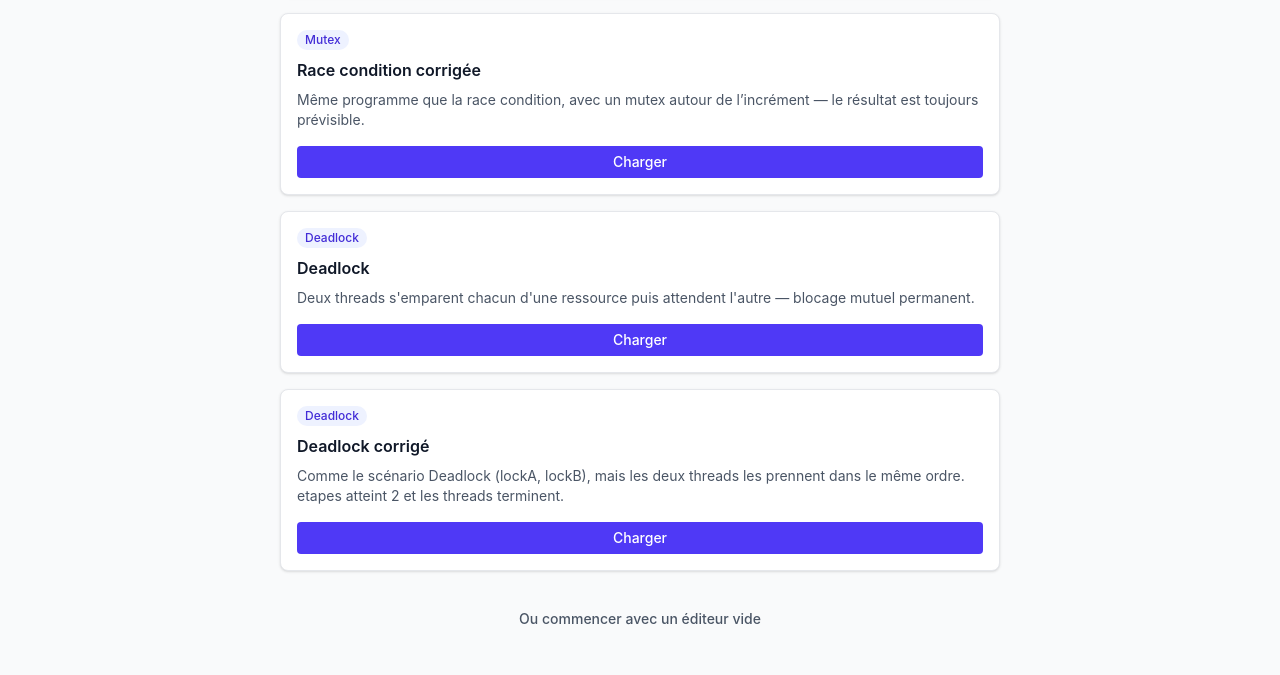
Test case: App editor › renders the layout with three panels after entering the editor
(page scrolled)
Click the button "Ou commencer avec un éditeur vide": (640, 619) x1=507 y1=603 x2=773 y2=635
(page scrolled)
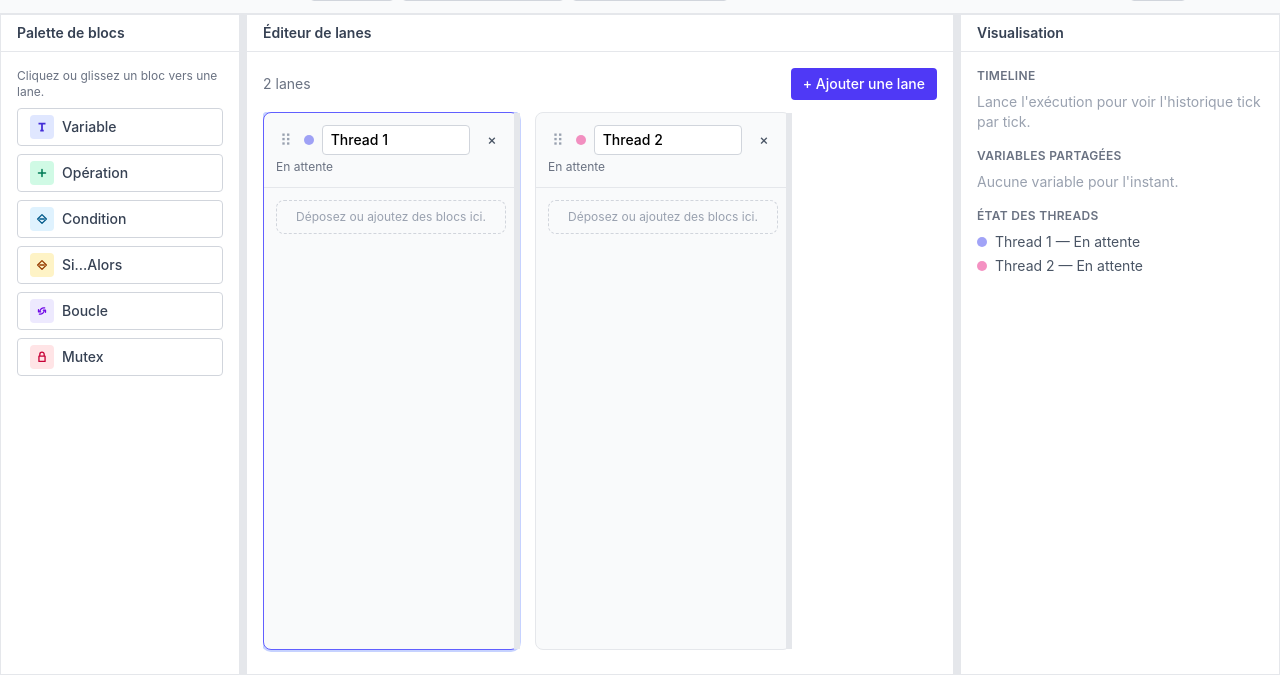
Check: the heading "Palette de blocs" is shown, box x1=17 y1=24 x2=125 y2=41
Check: the heading "Éditeur de lanes" is shown, box x1=263 y1=24 x2=371 y2=41
Check: the heading "Visualisation" is shown, box x1=977 y1=24 x2=1064 y2=41
